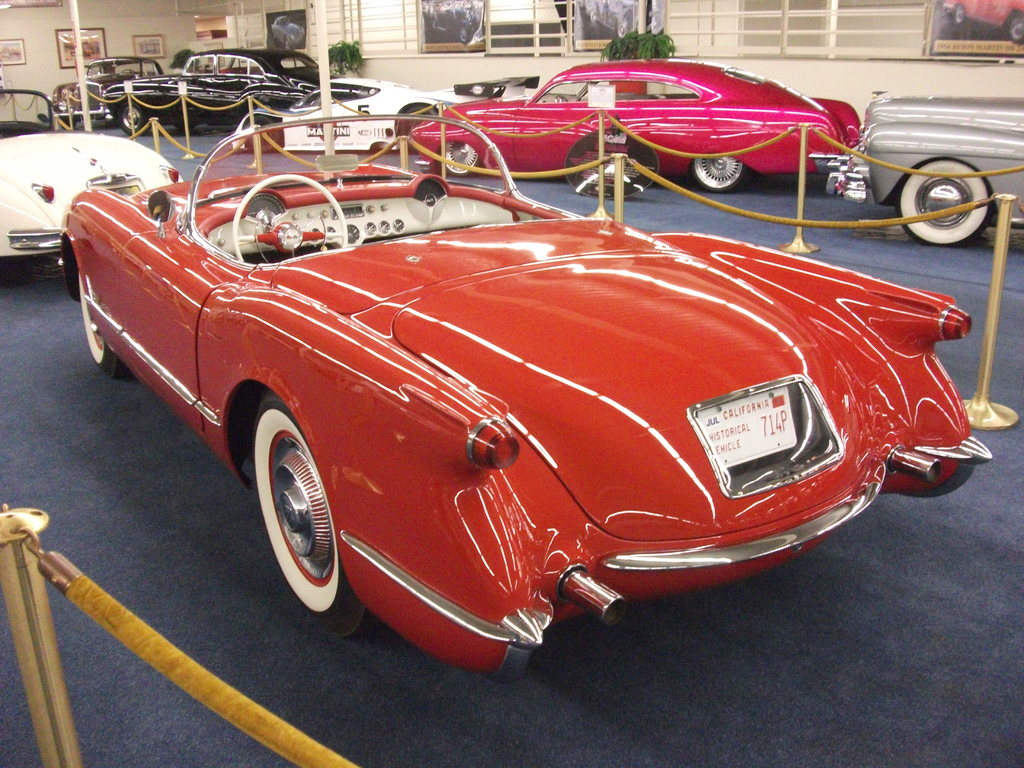Car: (52, 117, 998, 676), (414, 57, 864, 199), (0, 85, 191, 258), (824, 92, 1023, 248), (103, 46, 334, 136), (237, 74, 449, 160), (46, 51, 231, 138)
